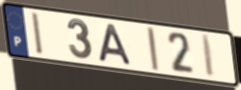2: (167, 31, 196, 76)
3: (66, 17, 94, 62)
A: (97, 22, 134, 68)
I: (145, 26, 161, 73), (30, 10, 46, 57), (200, 34, 216, 80)
